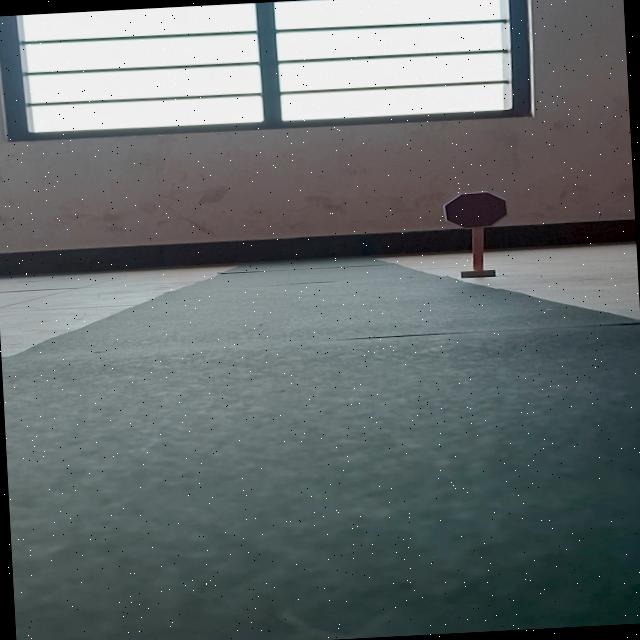Stop: (442, 190, 510, 230)
